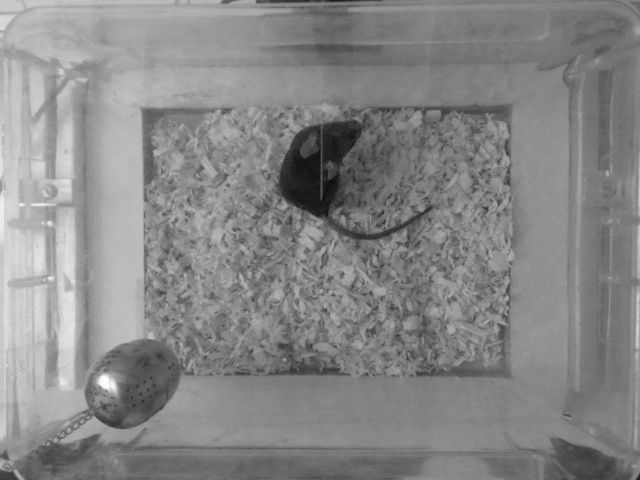mice: (280, 116, 432, 245)
